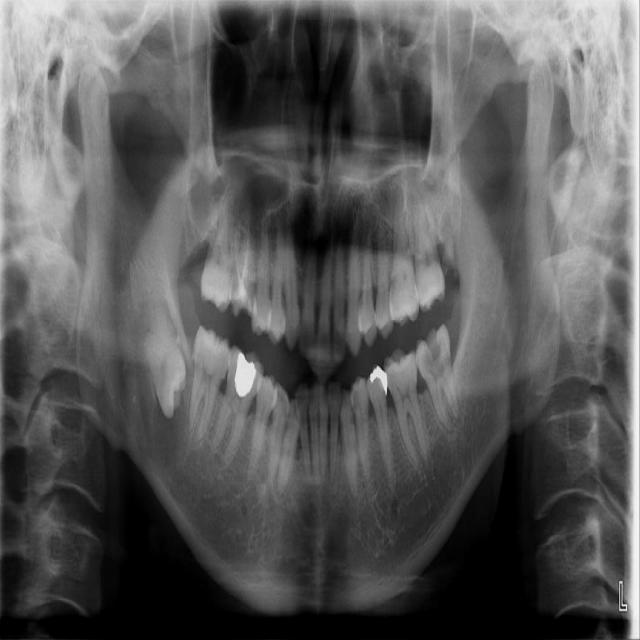Caries: (424, 333, 442, 367)
Filling: (233, 351, 258, 397), (369, 367, 389, 396)
Root Canal Treatment: (233, 229, 242, 289), (241, 235, 248, 280)
impacted tooth: (139, 295, 186, 418)
